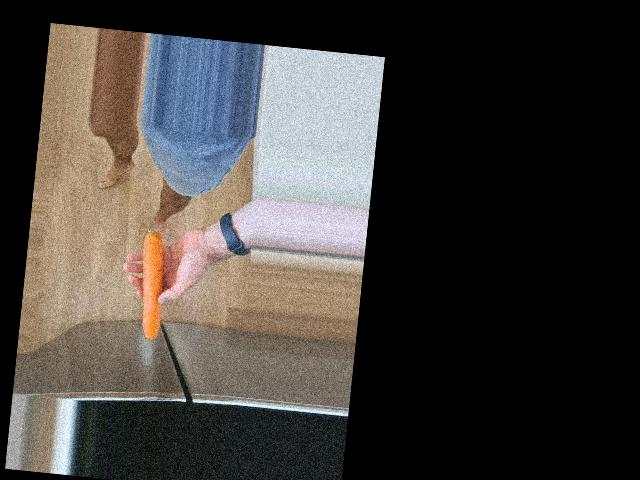carrot: (134, 229, 171, 337)
